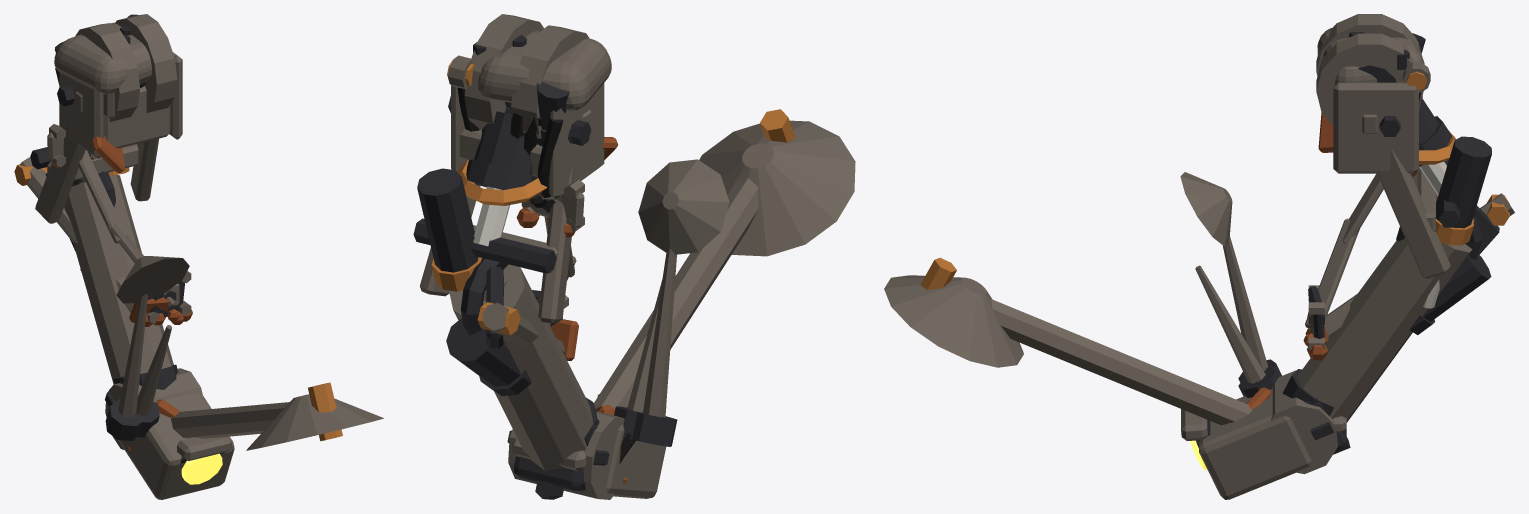
Rendered from ar_shieldcaster.glb.
3 renders of one model, left to right at view 1: azimuth 30°, elevation 25°; view 2: azimuth 150°, elevation 25°; view 3: azimuth 270°, elevation 25°, orthographic. The views are drawn at different scales.
Parts seen in each view (by area): view 1: ar_shieldcaster; view 2: ar_shieldcaster; view 3: ar_shieldcaster.
Part boxes in pixels (x1=…): ar_shieldcaster: x1=14, y1=14, x2=383, y2=499; ar_shieldcaster: x1=413, y1=14, x2=855, y2=499; ar_shieldcaster: x1=884, y1=14, x2=1514, y2=499.
Bounding box in the file's own units: 0.1224 × 0.3471 × 0.4363.
